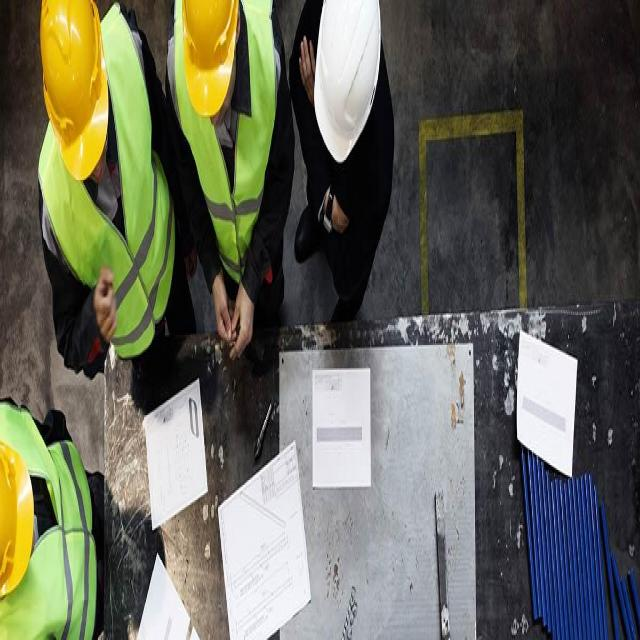Reflective-Jacket: (42, 22, 175, 353), (172, 7, 282, 308), (0, 386, 99, 640)
Safety-Helmet: (40, 0, 108, 177), (312, 0, 382, 160), (179, 0, 239, 117), (1, 435, 35, 593)
